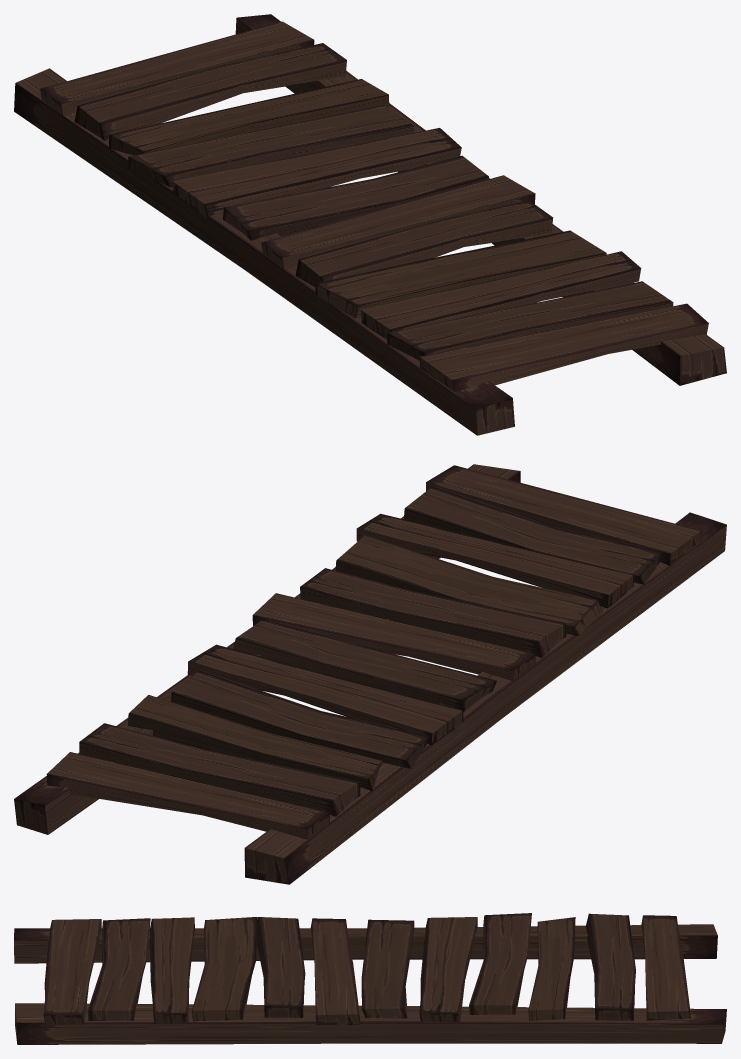
Rendered from SM_PROP_walkway_battle_03.fbx.
The picture shows the model from 3 angles, top to bottom: view 1: azimuth 30°, elevation 25°; view 2: azimuth 150°, elevation 25°; view 3: azimuth 270°, elevation 25°; orthographic projection. The views are drawn at different scales.
Parts seen in each view (by area): view 1: SM_PROP_walkway_battle_03; view 2: SM_PROP_walkway_battle_03; view 3: SM_PROP_walkway_battle_03.
Boxes of the visible parts, <box> form: SM_PROP_walkway_battle_03: <box>14,14,726,435</box>; SM_PROP_walkway_battle_03: <box>14,464,726,884</box>; SM_PROP_walkway_battle_03: <box>14,913,726,1044</box>.
Bounding box in the file's own units: 123 × 18.52 × 358.
